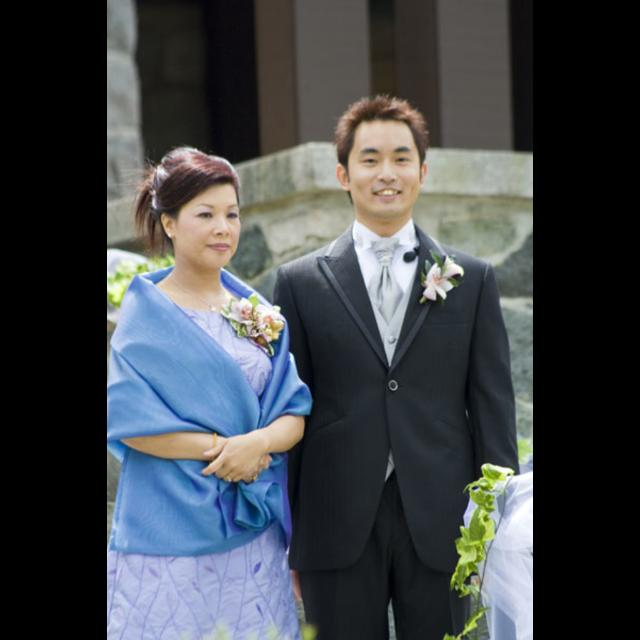Flower: (228, 296, 288, 352), (419, 264, 457, 304)
